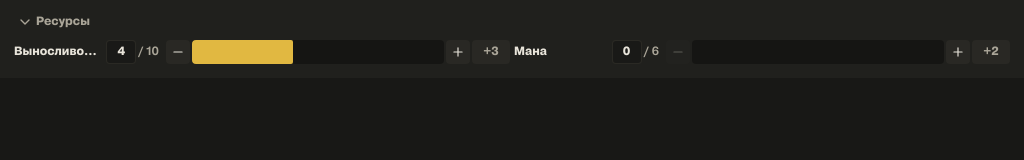
счётчики ресурсов › не восстанавливает завершившийся старый draft после отмены новой серии
The image size is (1024, 160).
Click the button named "Потратить одно очко: Выносливость" at (178, 52), box [166, 40, 190, 64]
Wait 600 ms
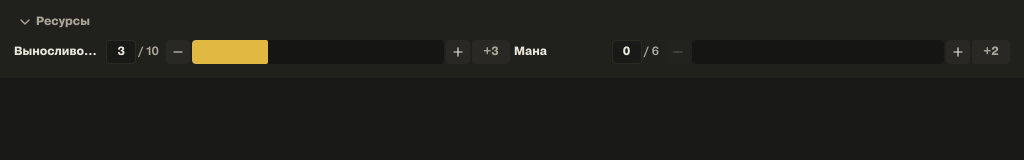
Click the button named "Потратить одно очко: Выносливость" at (178, 52), box [166, 40, 190, 64]
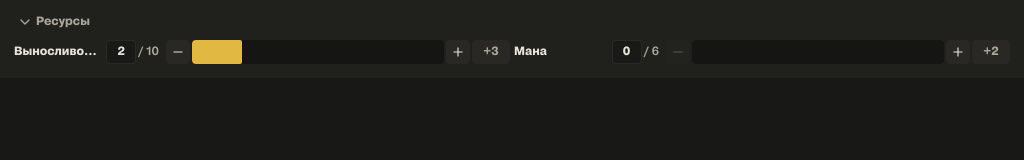
Expected: the number field named "Очки: Выносливость" holds "2", [106, 40, 136, 64]
Click the button named "Вернуть одно очко: Выносливость" at (458, 52), box [446, 40, 470, 64]
Wait 600 ms
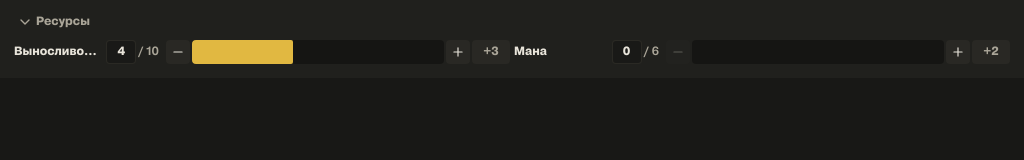
Expected: the number field named "Очки: Выносливость" holds "4", [106, 40, 136, 64]
